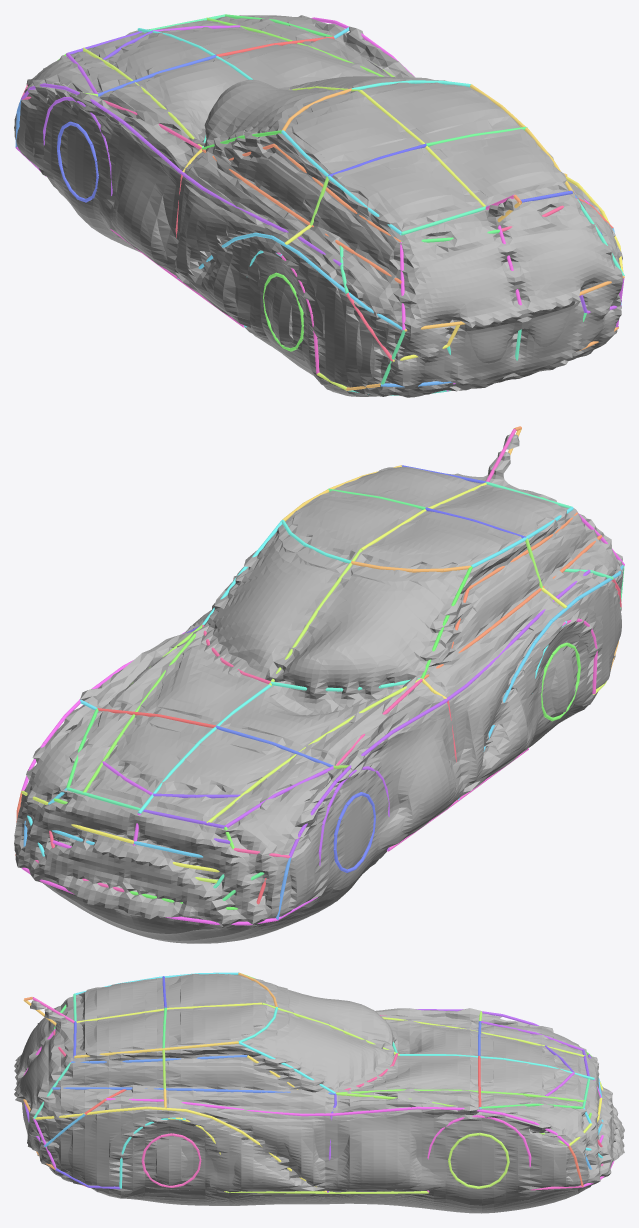
File: ils_car4.gltf
3 views of the same model, one above another, from view 1: azimuth 30°, elevation 25°; view 2: azimuth 150°, elevation 25°; view 3: azimuth 270°, elevation 25° (orthographic). The views are drawn at different scales.
Bounding box in the file's own units: 0.4062 × 0.3282 × 0.9213.
